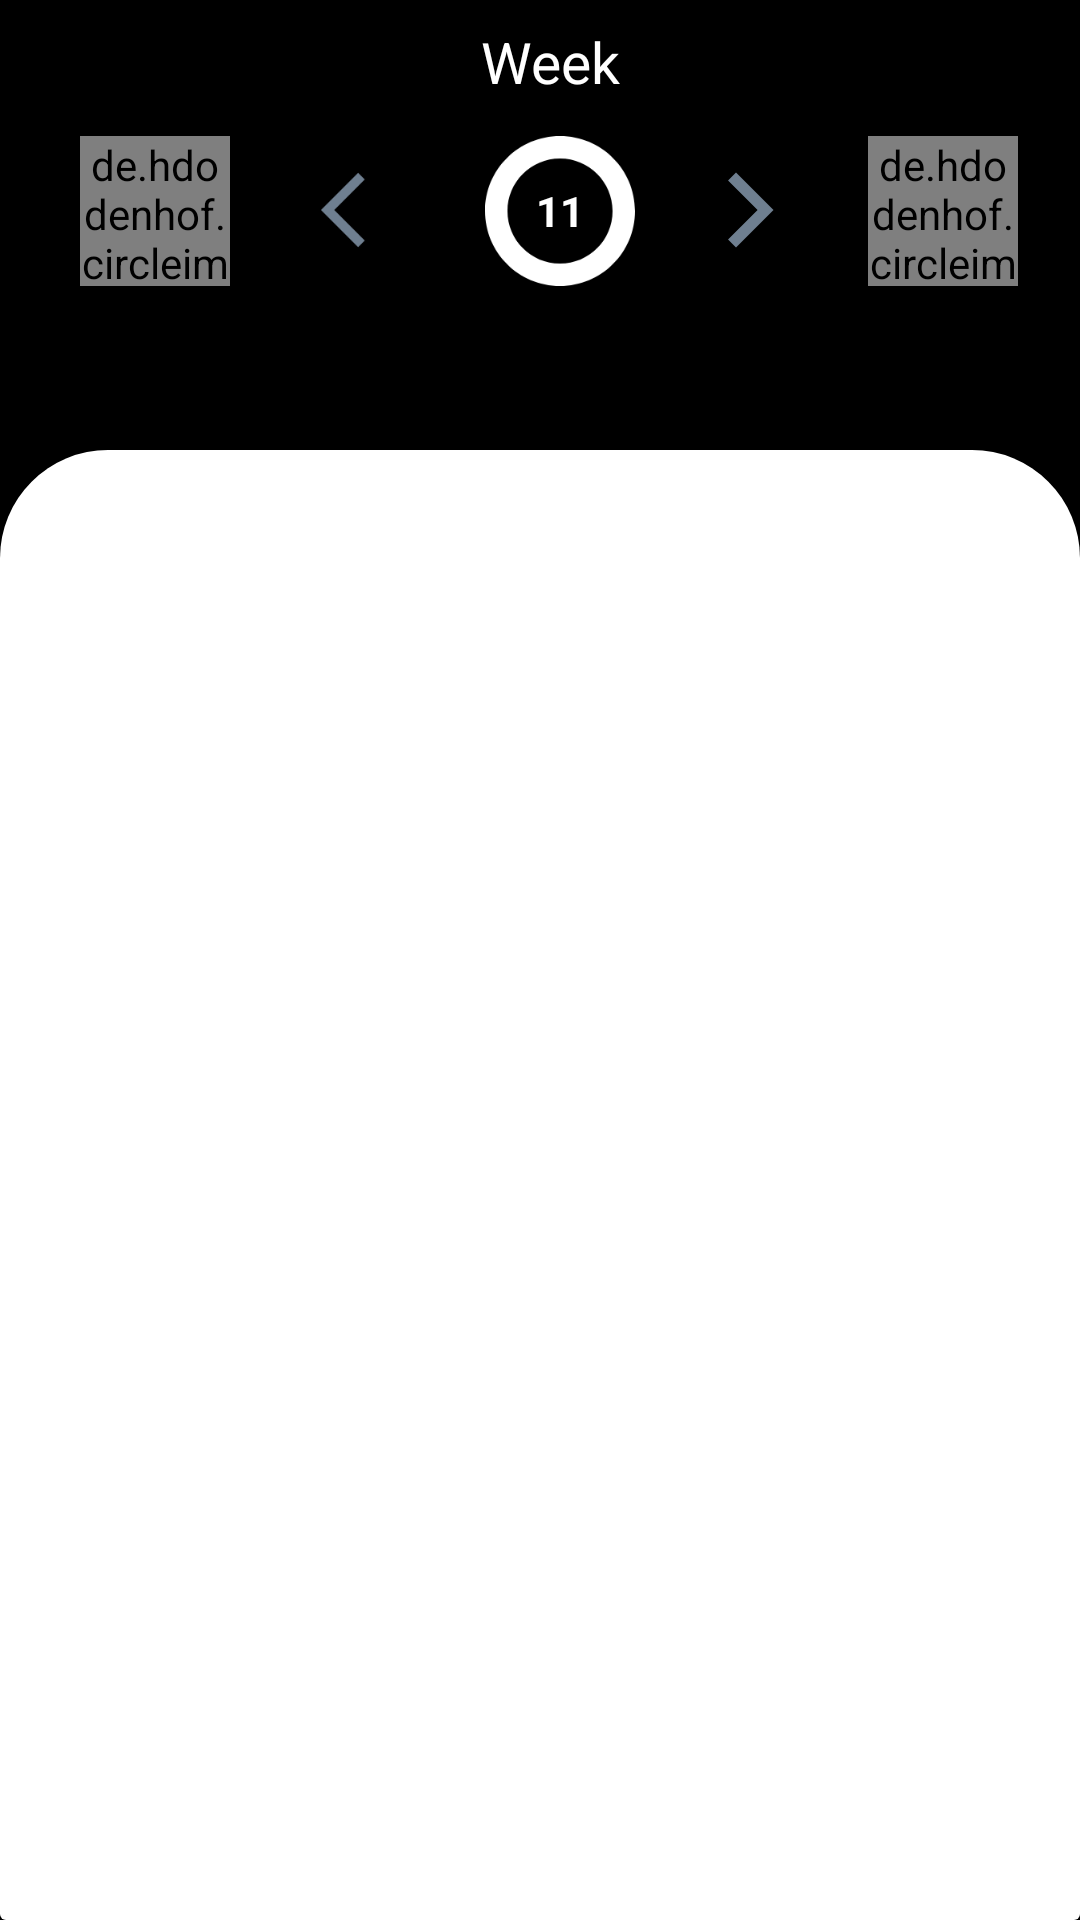

Where icons sit on this 1080x1920 app screen, as (x1, y1, x2, y2):
arrow left: (321, 173, 365, 247)
arrow right: (728, 173, 773, 247)
